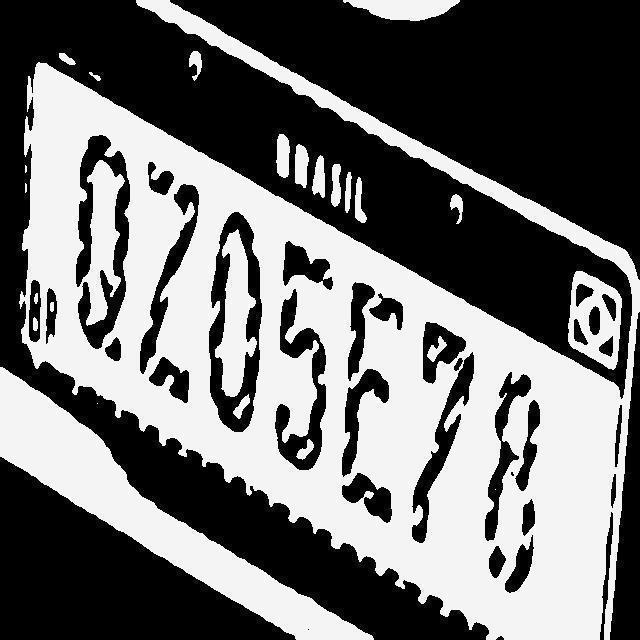0: (208, 208, 260, 442)
5: (271, 235, 333, 476)
7: (412, 306, 476, 558)
8: (480, 360, 546, 598)
e: (339, 268, 403, 528)
q: (66, 128, 131, 360)
z: (138, 156, 202, 408)
